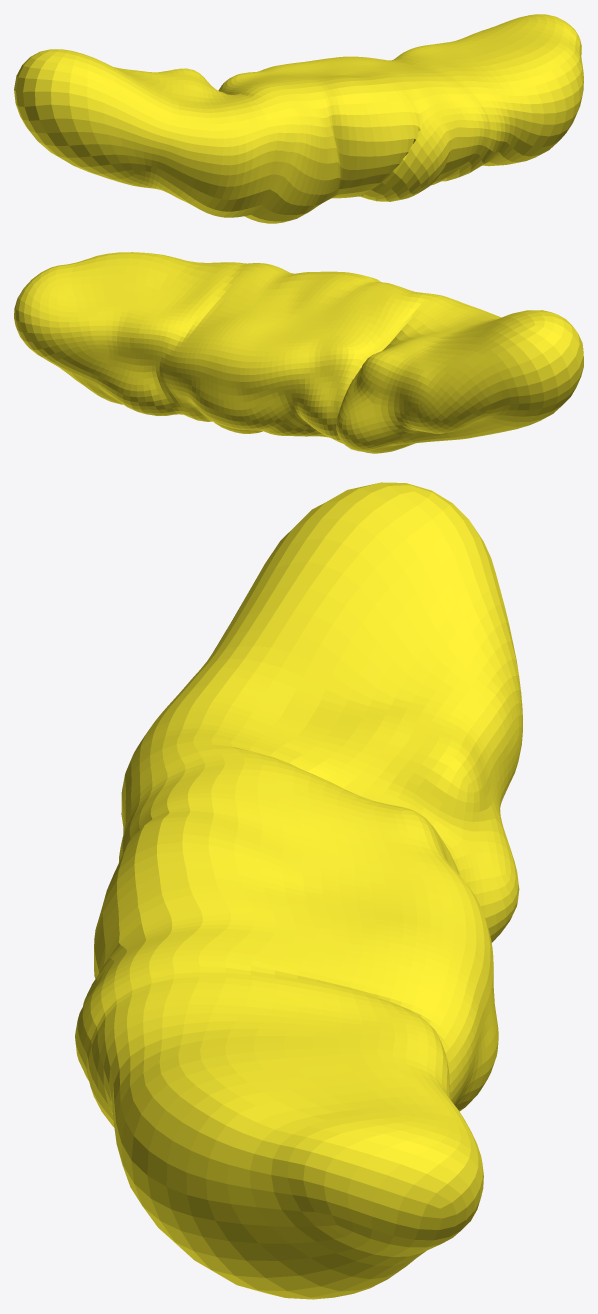
File: 3d-vh-f-epiploic-appendage-of-transverse-colon.glb
The picture shows the model from 3 angles, top to bottom: view 1: azimuth 30°, elevation 25°; view 2: azimuth 150°, elevation 25°; view 3: azimuth 270°, elevation 25°; orthographic projection. The views are drawn at different scales.
Visible parts, largest first — view 1: VH_F_epiploic_appendage_of_transverse_colon; view 2: VH_F_epiploic_appendage_of_transverse_colon; view 3: VH_F_epiploic_appendage_of_transverse_colon.
Boxes of the visible parts, bbox=[...] form: VH_F_epiploic_appendage_of_transverse_colon: bbox=[14, 14, 583, 223]; VH_F_epiploic_appendage_of_transverse_colon: bbox=[14, 252, 583, 453]; VH_F_epiploic_appendage_of_transverse_colon: bbox=[75, 482, 522, 1299].
Bounding box in the file's own units: 0.0697 × 0.0235 × 0.0247.
